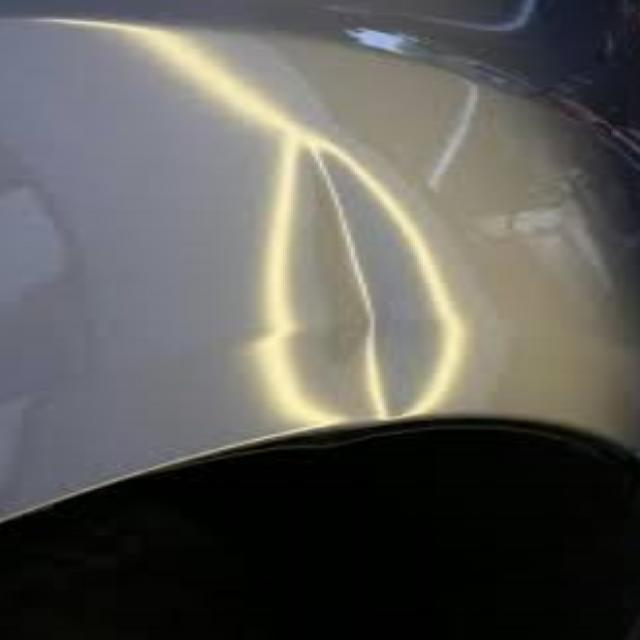dents: (184, 145, 494, 411)
